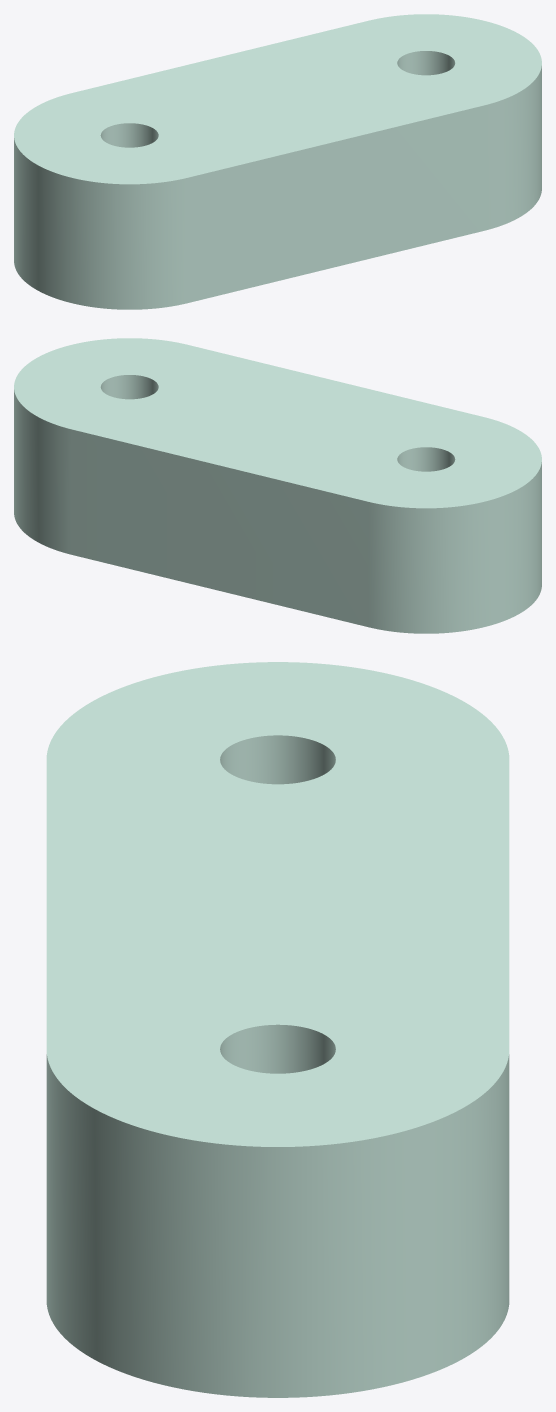
3 renders of one model, top to bottom at view 1: azimuth 30°, elevation 25°; view 2: azimuth 150°, elevation 25°; view 3: azimuth 270°, elevation 25°, orthographic. The views are drawn at different scales.
Visible parts, largest first — view 1: Renderer Node; view 2: Renderer Node; view 3: Renderer Node.
Part boxes in pixels (x1,y1,x2,y2): Renderer Node: (14, 14, 541, 309); Renderer Node: (14, 338, 541, 633); Renderer Node: (46, 662, 509, 1397).
Bounding box in the file's own units: 0.9394 × 0.2266 × 0.3789.
